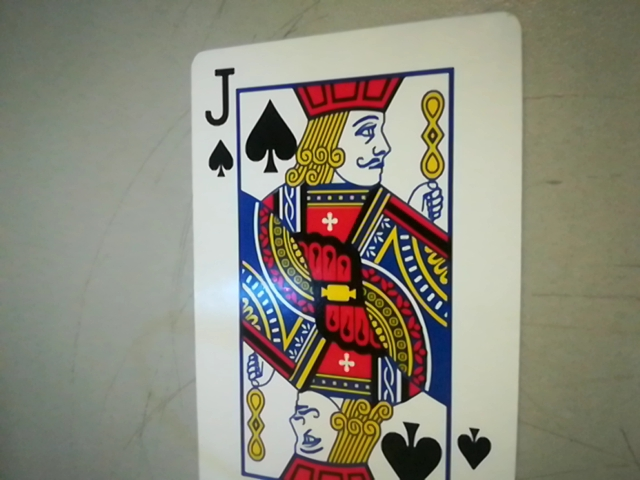ht j: (194, 64, 243, 184)
